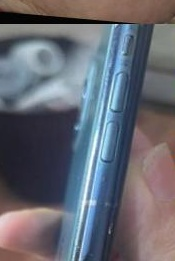scratch: (99, 24, 159, 70), (101, 185, 125, 242), (69, 232, 98, 260)
